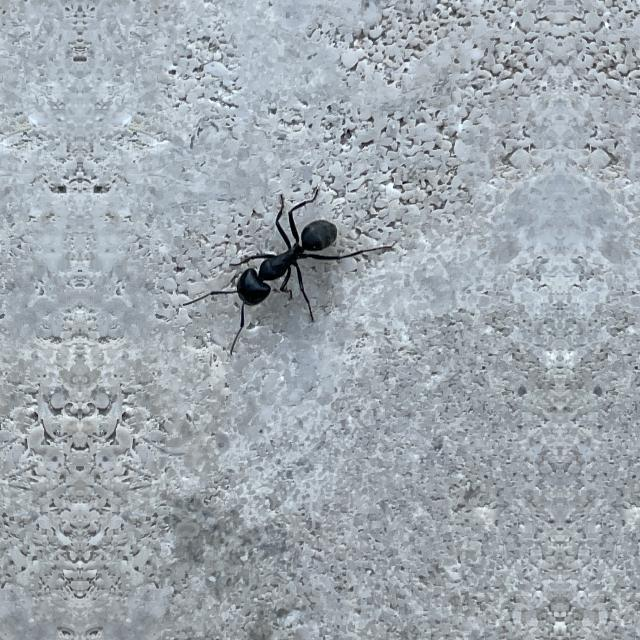Camponotus: (195, 198, 372, 326)
